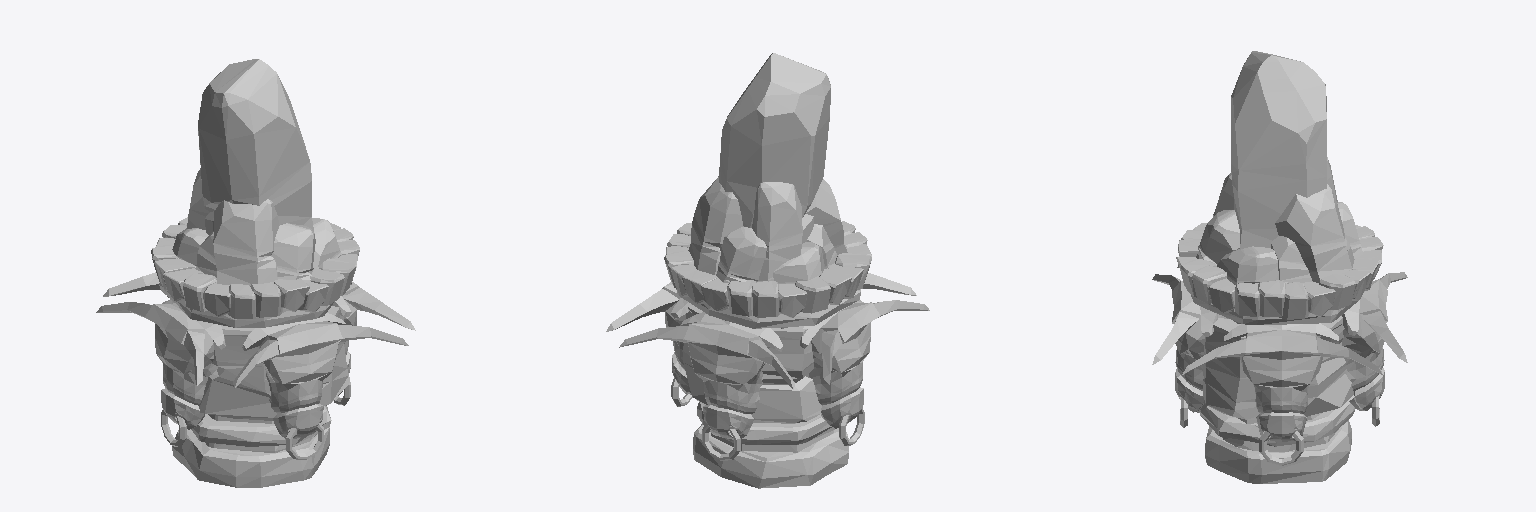
The model's file is crystal reflector.obj.
The picture shows the model from 3 angles: view 1: azimuth 30°, elevation 25°; view 2: azimuth 150°, elevation 25°; view 3: azimuth 270°, elevation 25°; orthographic projection.
Visible parts, largest first — view 1: bull_head3 bull_head_reflector_reflecter bull_head_stylized_bull, crystal_and_rocks_reflecter crystal_and_rocks_stone17 rock_refle, crystal_and_rocks_reflecter rock_reflect_crystal rocks_and_cryst, stone1, stone15, stone9, bull_17 bull_head3 bull_head_reflector_reflecter group35 reflect, crystal_and_rocks_reflecter crystal_and_rocks_stone13 rock_refle, crystal_and_rocks_reflecter crystal_and_rocks_stone9 rock_reflec, stone17, bull_head3 bull_head_reflector_reflecter bull_head_stylized_grou, top_ring stone6 group17 (+10 smaller); view 2: bull_head3 bull_head_reflector_reflecter bull_head_stylized_bull, crystal_and_rocks_reflecter crystal_and_rocks_stone17 rock_refle, stone15, crystal_and_rocks_reflecter rock_reflect_crystal rocks_and_cryst, stone1, crystal_and_rocks_reflecter crystal_and_rocks_stone6 rock_reflec, crystal_and_rocks_reflecter crystal_and_rocks_stone13 rock_refle, bull_17 bull_head3 bull_head_reflector_reflecter group35 reflect, stone9, stone17, crystal_and_rocks_reflecter crystal_and_rocks_stone9 rock_reflec, bull_head3 bull_head_reflector_reflecter bull_head_stylized_grou (+9 smaller); view 3: bull_head3 bull_head_reflector_reflecter bull_head_stylized_bull, crystal_and_rocks_reflecter crystal_and_rocks_stone17 rock_refle, crystal_and_rocks_reflecter rock_reflect_crystal rocks_and_cryst, stone1, stone15, stone9, crystal_and_rocks_reflecter crystal_and_rocks_stone13 rock_refle, crystal_and_rocks_reflecter crystal_and_rocks_stone9 rock_reflec, bull_17 bull_head3 bull_head_reflector_reflecter group35 reflect, bull_head3 bull_head_reflector_reflecter bull_head_stylized_grou, stone17, top_ring stone6 group21 (+7 smaller).
Boxes of the visible parts, box(x1,y1,x2,y2) form: bull_head3 bull_head_reflector_reflecter bull_head_stylized_bull: box(103, 272, 408, 438); crystal_and_rocks_reflecter crystal_and_rocks_stone17 rock_refle: box(198, 59, 313, 234); crystal_and_rocks_reflecter rock_reflect_crystal rocks_and_cryst: box(195, 199, 279, 285); stone1: box(199, 306, 349, 420); stone15: box(172, 427, 329, 487); stone9: box(191, 406, 331, 446); bull_17 bull_head3 bull_head_reflector_reflecter group35 reflect: box(96, 288, 415, 388); crystal_and_rocks_reflecter crystal_and_rocks_stone13 rock_refle: box(271, 223, 315, 282); crystal_and_rocks_reflecter crystal_and_rocks_stone9 rock_reflec: box(172, 218, 341, 270); stone17: box(159, 282, 333, 327); bull_head3 bull_head_reflector_reflecter bull_head_stylized_grou: box(161, 370, 350, 459); top_ring stone6 group17: box(250, 282, 282, 317); bull_head3 bull_head_reflector_reflecter bull_head_stylized_bull: box(606, 282, 929, 439); crystal_and_rocks_reflecter crystal_and_rocks_stone17 rock_refle: box(719, 53, 830, 243); stone15: box(693, 424, 848, 488); crystal_and_rocks_reflecter rock_reflect_crystal rocks_and_cryst: box(688, 176, 847, 274); stone1: box(682, 305, 821, 422); crystal_and_rocks_reflecter crystal_and_rocks_stone6 rock_reflec: box(752, 182, 802, 281); crystal_and_rocks_reflecter crystal_and_rocks_stone13 rock_refle: box(716, 227, 766, 307); bull_17 bull_head3 bull_head_reflector_reflecter group35 reflect: box(619, 273, 916, 384); stone9: box(697, 402, 847, 444); stone17: box(676, 289, 860, 328); crystal_and_rocks_reflecter crystal_and_rocks_stone9 rock_reflec: box(773, 242, 824, 283); bull_head3 bull_head_reflector_reflecter bull_head_stylized_grou: box(671, 378, 864, 460); bull_head3 bull_head_reflector_reflecter bull_head_stylized_bull: box(1152, 265, 1407, 442); crystal_and_rocks_reflecter crystal_and_rocks_stone17 rock_refle: box(1231, 51, 1326, 249); crystal_and_rocks_reflecter rock_reflect_crystal rocks_and_cryst: box(1213, 172, 1354, 283); stone1: box(1203, 316, 1354, 419); stone15: box(1205, 420, 1351, 483); stone9: box(1199, 402, 1355, 446); crystal_and_rocks_reflecter crystal_and_rocks_stone13 rock_refle: box(1196, 202, 1362, 264); crystal_and_rocks_reflecter crystal_and_rocks_stone9 rock_reflec: box(1217, 246, 1278, 311); bull_17 bull_head3 bull_head_reflector_reflecter group35 reflect: box(1152, 274, 1407, 374); bull_head3 bull_head_reflector_reflecter bull_head_stylized_grou: box(1180, 351, 1379, 465); stone17: box(1191, 295, 1357, 324); top_ring stone6 group21: box(1258, 280, 1285, 316).
Size of the model in its own units: 16.43 by 28.41 by 16.43.